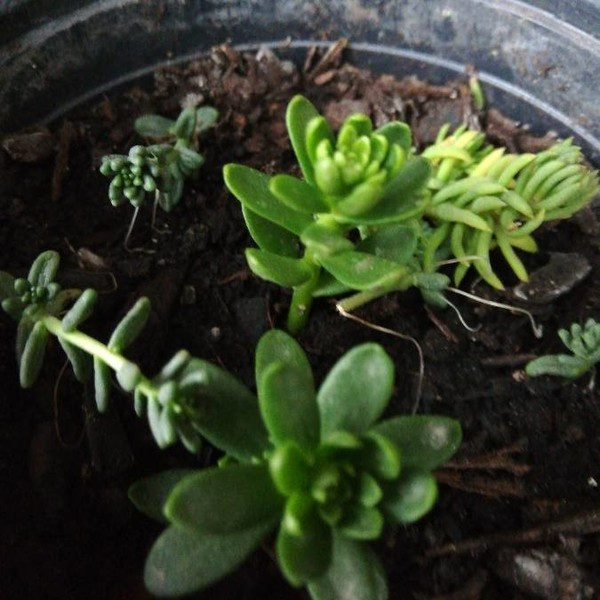obstacle: (32, 8, 564, 580), (154, 313, 415, 594), (232, 90, 576, 295), (98, 94, 237, 219)
